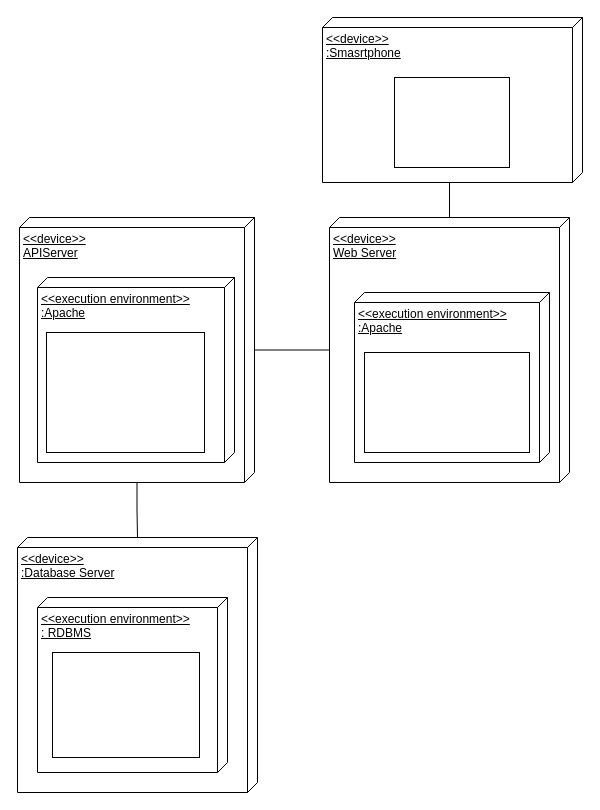
This 600x810 diagram has some shape labels left out. Each missing label, with the centre of its shape:
":API Application" belongs at [125,392].
":DB Shema" belongs at [126,705].
":Web Application" belongs at [447,402].
":Web Browser" belongs at [452,122].
